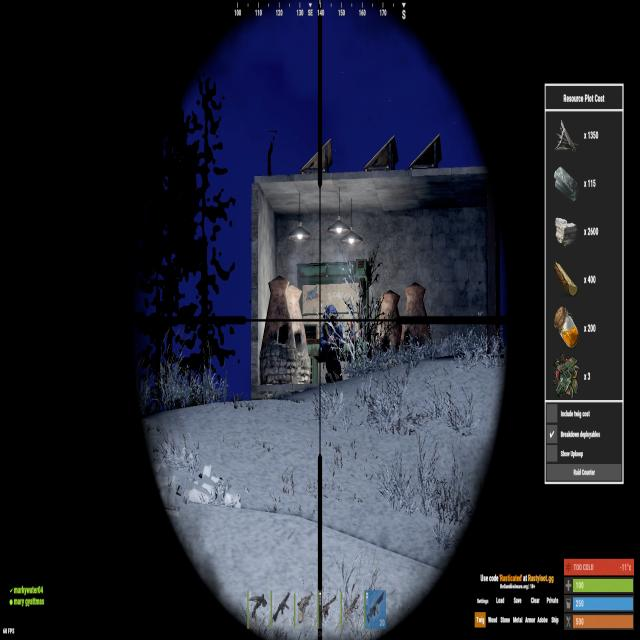Player: (319, 300, 343, 384)
